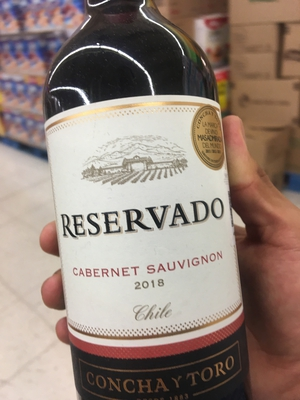reservado cabernet sauvignon: (43, 3, 246, 400)
